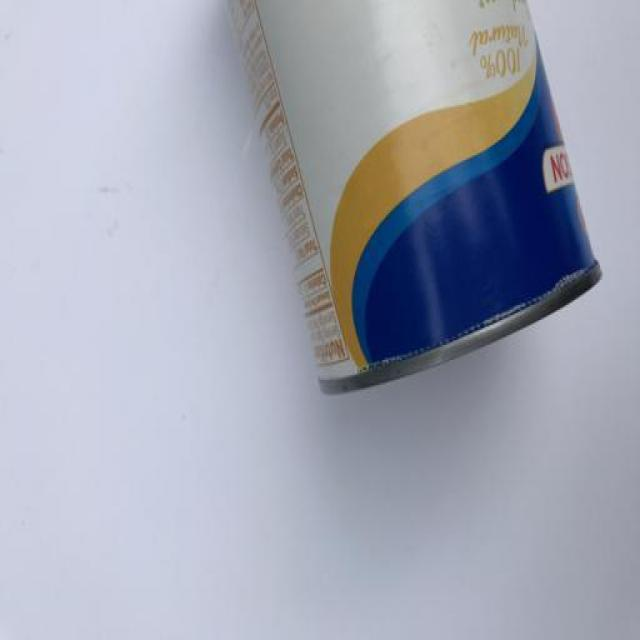metel: (127, 1, 623, 483)
